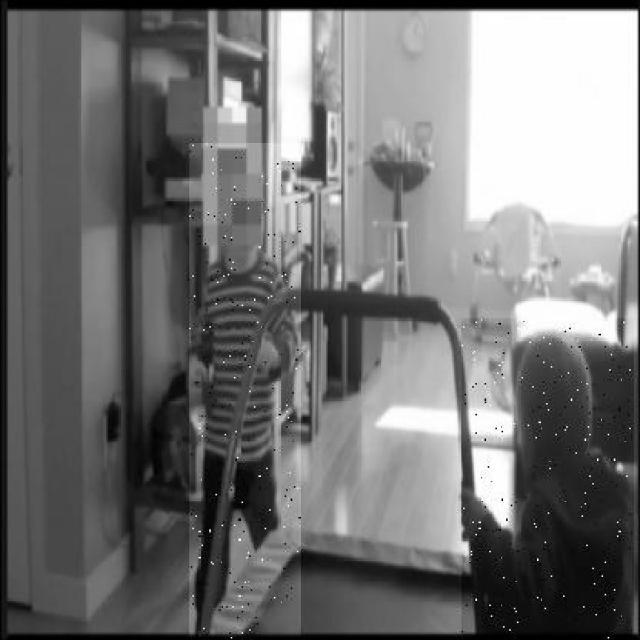child: (461, 318, 633, 640), (189, 143, 300, 640)
